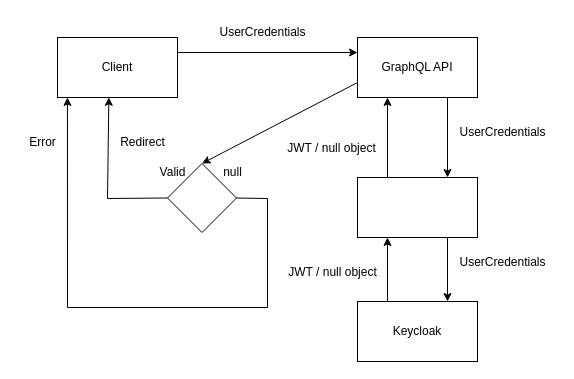
This 574x379 diagram has some shape labels left out. The box of each missing label's shape, as (x1, y1, x2, y2) in pixels:
Auth service: (356, 176, 478, 238)
JWT?: (166, 162, 236, 232)
